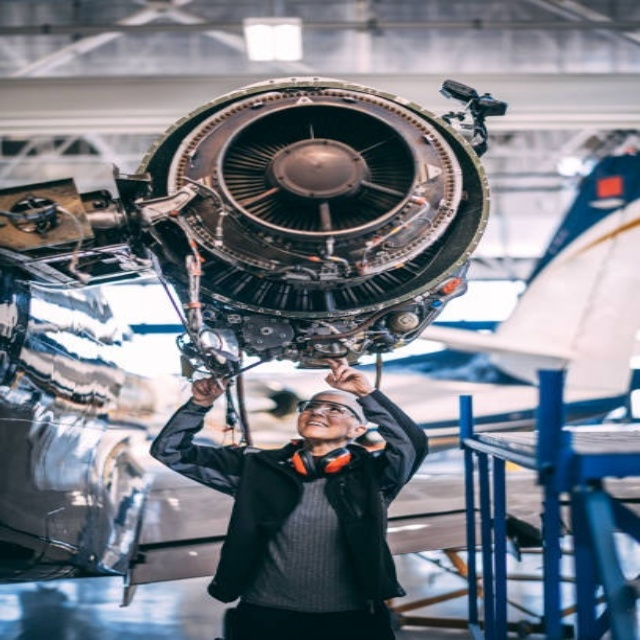Gafas: (296, 401, 358, 418)
Sin_guantes: (320, 357, 375, 393), (190, 373, 229, 404)
Sin_mascara: (296, 419, 339, 437)
